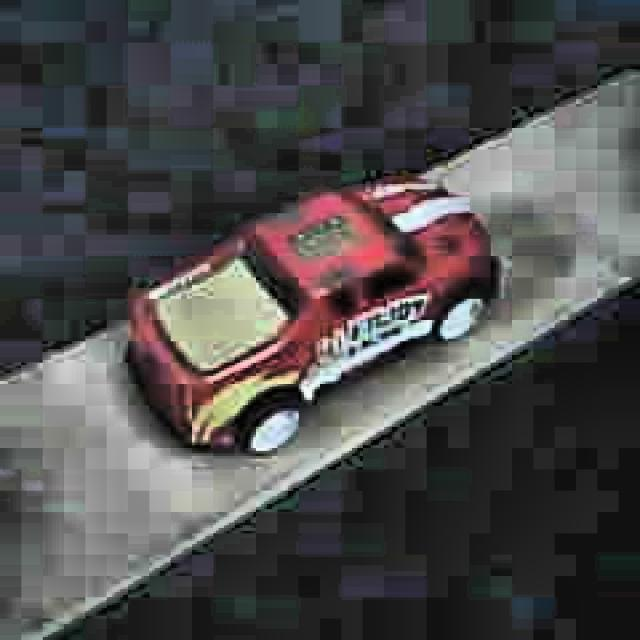car: (124, 170, 500, 460)
